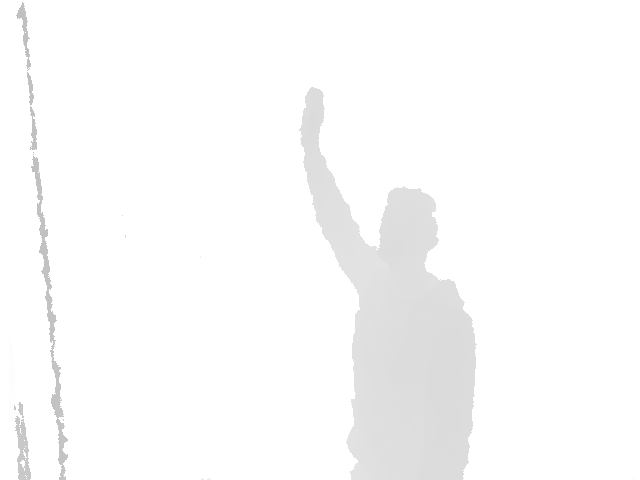hand: (299, 87, 324, 146)
head: (377, 187, 440, 266)
person: (298, 87, 478, 480)
